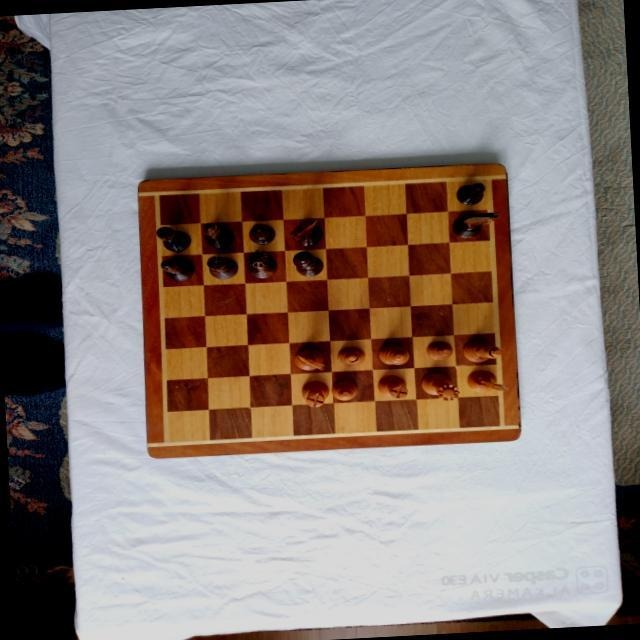black-bishop: (158, 257, 193, 282), (203, 221, 234, 249)
black-king: (291, 250, 323, 278)
black-knight: (452, 212, 501, 240), (288, 218, 323, 247)
black-pawn: (455, 182, 486, 206), (248, 223, 275, 244)
black-queen: (245, 249, 278, 279)
black-rook: (154, 224, 190, 252), (206, 254, 238, 280)
white-bishop: (462, 338, 502, 364), (335, 345, 364, 368)
white-king: (376, 342, 409, 365)
white-knight: (465, 369, 508, 395), (292, 347, 325, 372)
white-pawn: (330, 379, 357, 400), (425, 340, 453, 360)
white-queen: (419, 372, 461, 404)
white-rook: (300, 380, 329, 407), (377, 375, 407, 401)
